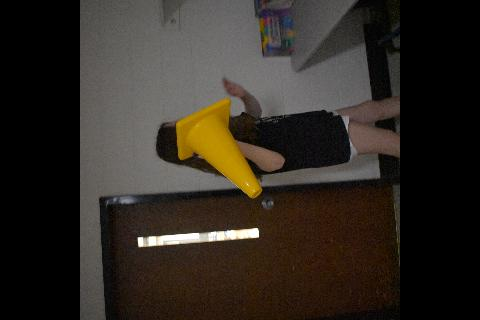cone: (175, 96, 263, 198)
